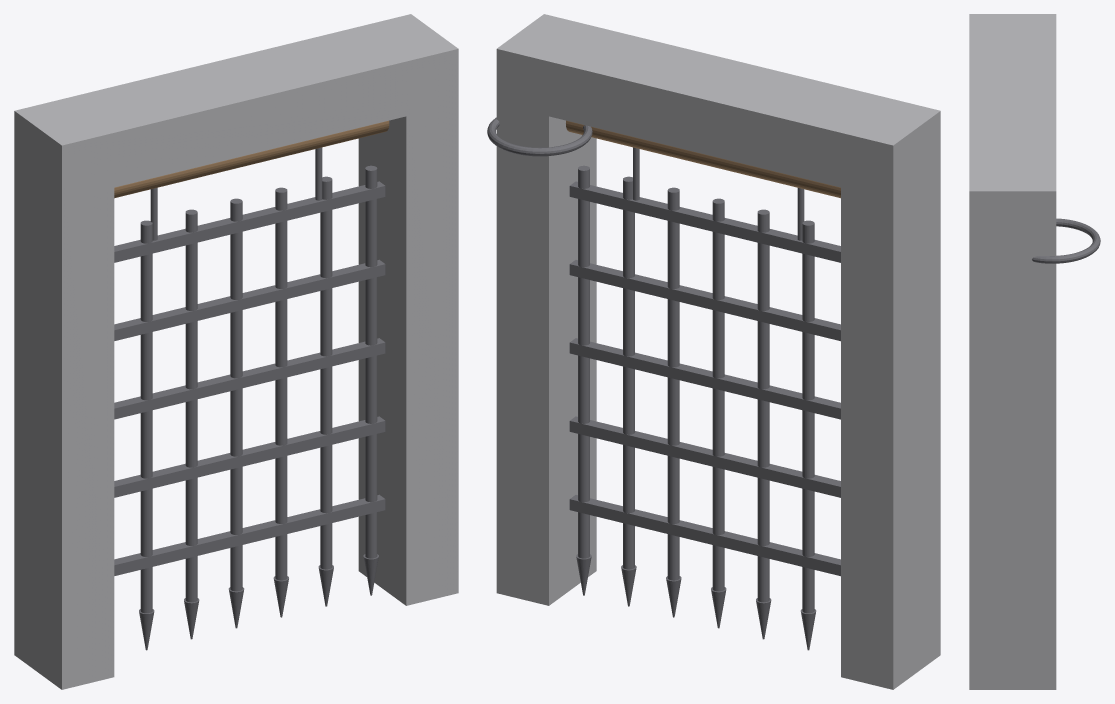
The model's file is portcullis_gate.glb.
3 renders of one model, left to right at view 1: azimuth 30°, elevation 25°; view 2: azimuth 150°, elevation 25°; view 3: azimuth 270°, elevation 25°, orthographic. The views are drawn at different scales.
Visible parts, largest first — view 1: Cube, Cube.001, Cube.002, Cube.004, Cube.005, Cube.006, Cube.003, Cube.007, Cylinder.007, Cylinder.005, Cylinder.004, Cylinder.002 (+3 smaller); view 2: Cube, Cube.001, Cube.002, Cube.004, Cube.005, Cube.003, Cube.006, Cube.007, Cylinder.002, Cylinder.004, Cylinder.003, Cylinder.005 (+4 smaller); view 3: Cube.001, Cube.002, Torus.
Part boxes in pixels (bbox=[...]): Cube: bbox=[14, 130, 114, 689]; Cube.001: bbox=[358, 60, 458, 605]; Cube.002: bbox=[14, 14, 458, 199]; Cube.004: bbox=[114, 416, 385, 497]; Cube.005: bbox=[114, 338, 385, 419]; Cube.006: bbox=[114, 259, 385, 340]; Cube.003: bbox=[114, 494, 385, 575]; Cube.007: bbox=[114, 181, 385, 262]; Cylinder.007: bbox=[365, 165, 377, 558]; Cylinder.005: bbox=[275, 187, 287, 580]; Cylinder.004: bbox=[230, 198, 242, 591]; Cylinder.002: bbox=[140, 220, 152, 613]; Cube: bbox=[841, 123, 940, 689]; Cube.001: bbox=[496, 60, 596, 605]; Cube.002: bbox=[496, 14, 940, 199]; Cube.004: bbox=[569, 416, 840, 497]; Cube.005: bbox=[569, 338, 840, 419]; Cube.003: bbox=[569, 495, 840, 576]; Cube.006: bbox=[569, 260, 840, 341]; Cube.007: bbox=[569, 181, 840, 262]; Cylinder.002: bbox=[802, 220, 814, 613]; Cylinder.004: bbox=[712, 198, 724, 591]; Cylinder.003: bbox=[757, 209, 769, 602]; Cylinder.005: bbox=[667, 187, 679, 580]; Cube.001: bbox=[969, 202, 1056, 689]; Cube.002: bbox=[969, 14, 1056, 241]; Torus: bbox=[1032, 218, 1100, 263].
Bounding box in the file's own units: 2.68 × 3.5 × 0.83.
